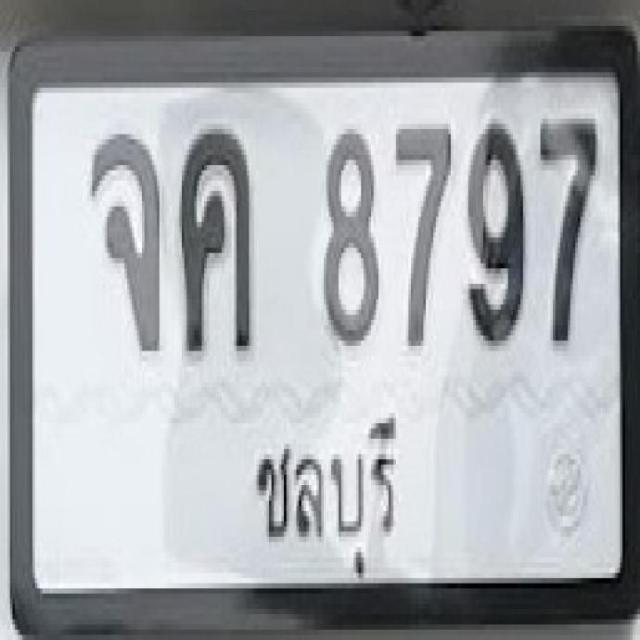7: (392, 119, 451, 344), (538, 114, 595, 343)
8: (320, 124, 377, 342)
9: (465, 118, 522, 341)
A04: (179, 125, 250, 350)
A08: (88, 128, 159, 350)
CBI: (245, 400, 404, 585)
